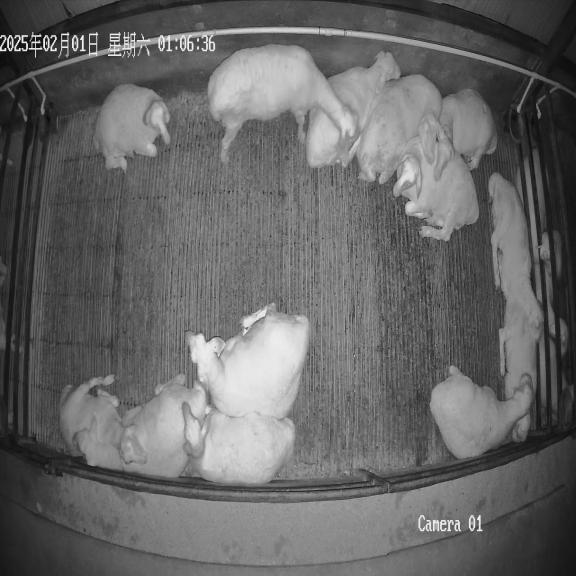lying: (186, 304, 310, 418), (78, 375, 204, 478), (488, 172, 543, 377), (306, 52, 400, 168), (349, 74, 443, 184), (430, 366, 533, 459), (182, 406, 296, 484), (393, 146, 479, 241), (59, 375, 146, 466), (93, 84, 170, 173), (433, 89, 497, 179), (504, 311, 540, 442)
stand: (207, 44, 353, 163)
